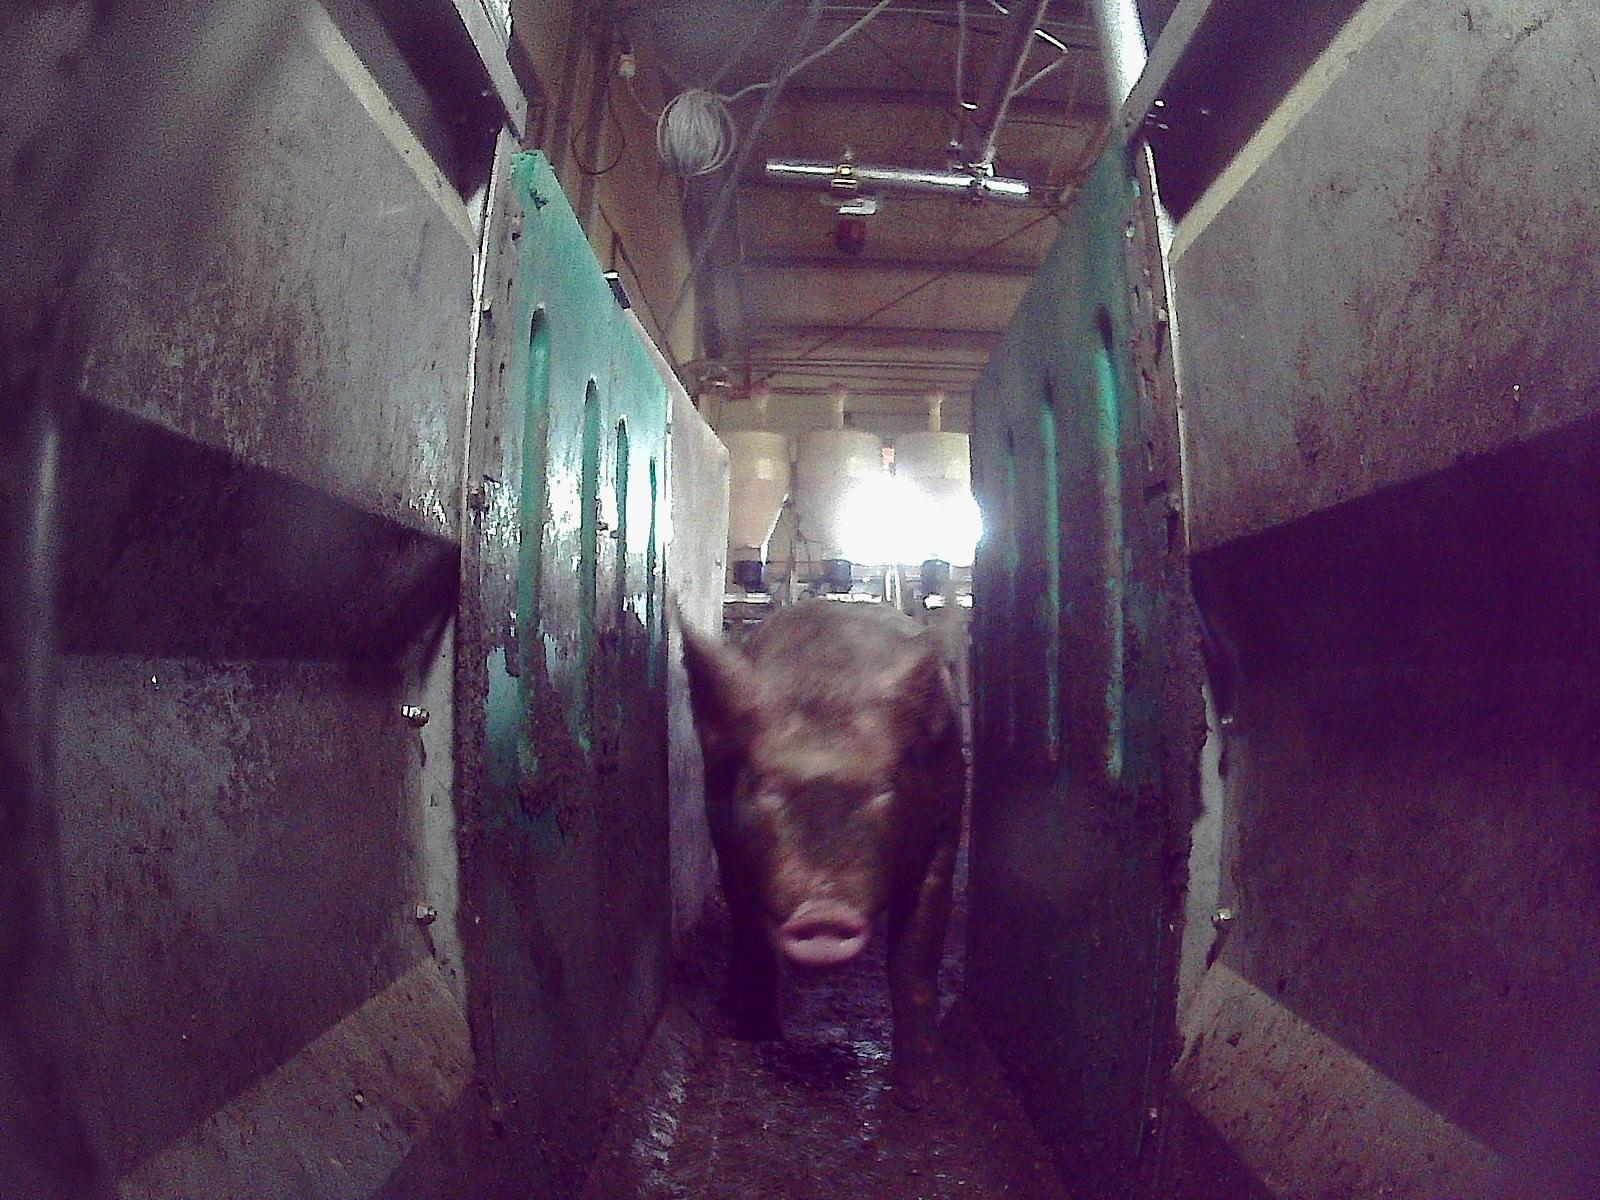Face: (716, 672, 900, 966)
